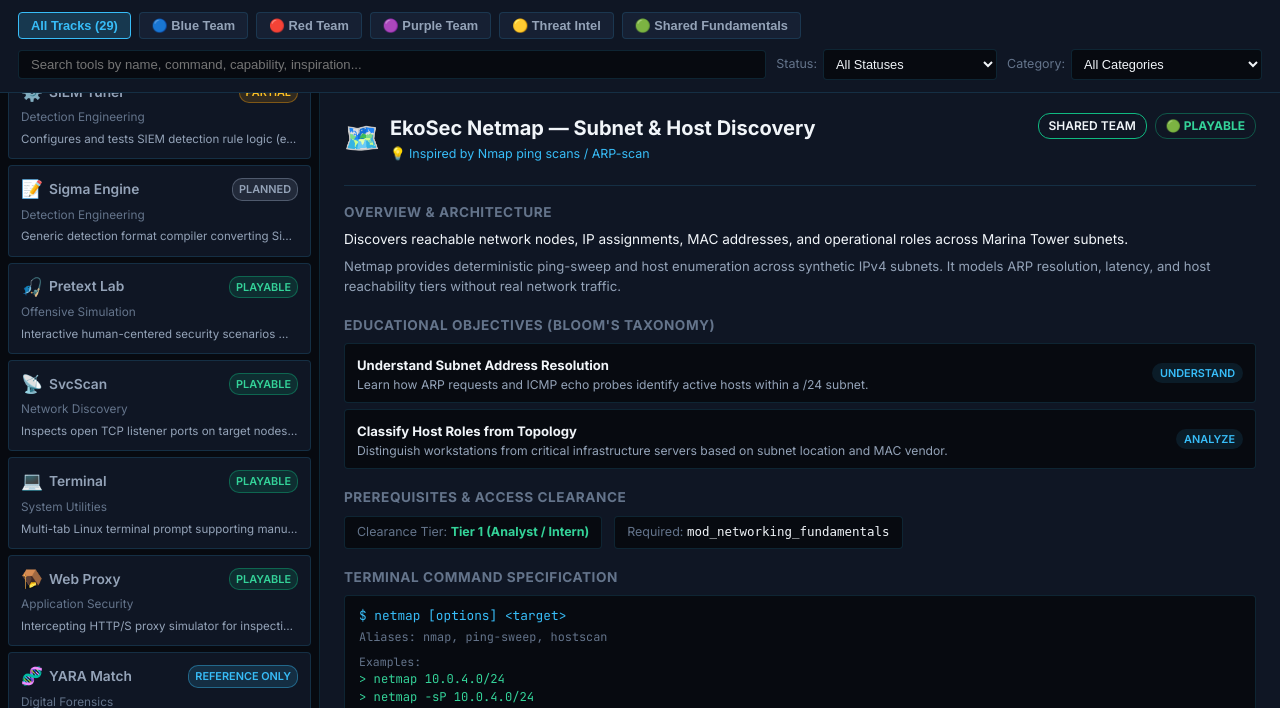
Test case: CyberCatalogueApp & CyberArsenalView Integration › inspects learning objectives, prerequisites, and command specs of selected tool
(page scrolled)
# Click on SvcScan
Click the button with test id "tool-item-tool_svcscan" at (78, 384), box top-left (8, 360), bottom-right (311, 451)
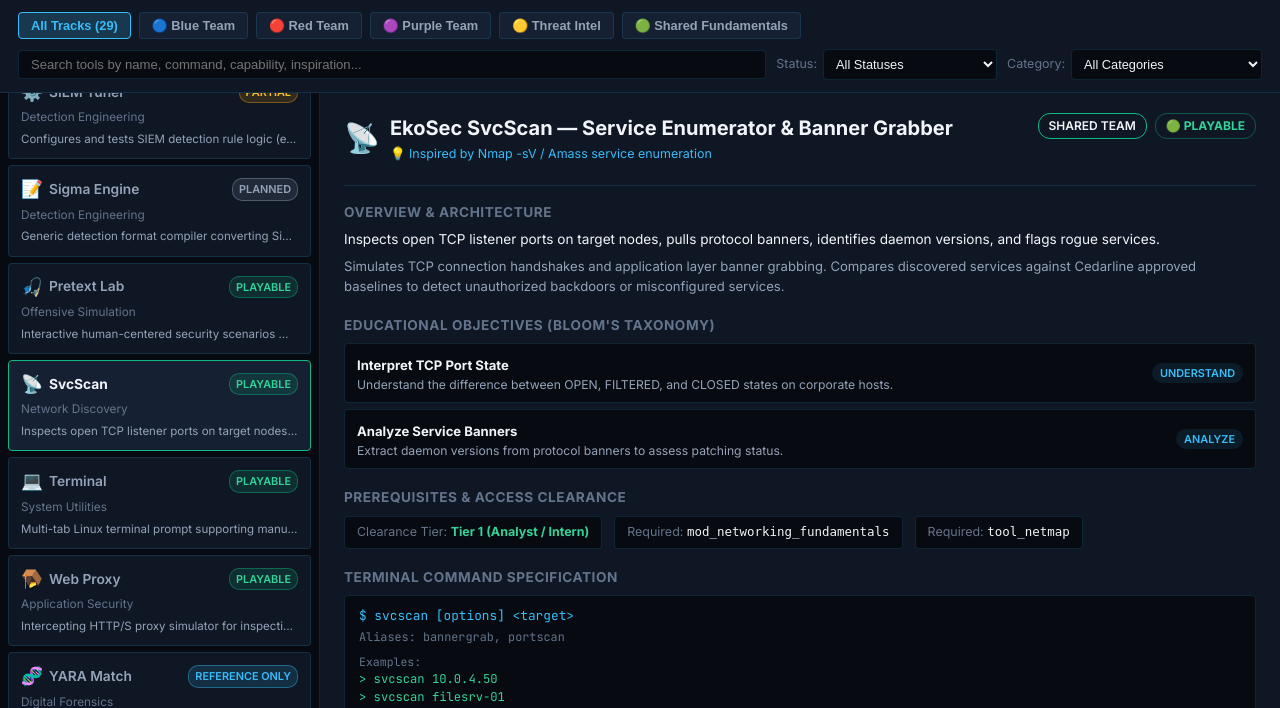
Expected: the heading "Educational Objectives (Bloom's Taxonomy)" is shown, top-left (344, 317), bottom-right (715, 333)
Expected: the heading with test id "selected-tool-name" shows "SvcScan", top-left (390, 116), bottom-right (953, 140)
Expected: the text "$ svcscan [options] <target>" is shown, top-left (359, 607), bottom-right (574, 624)
